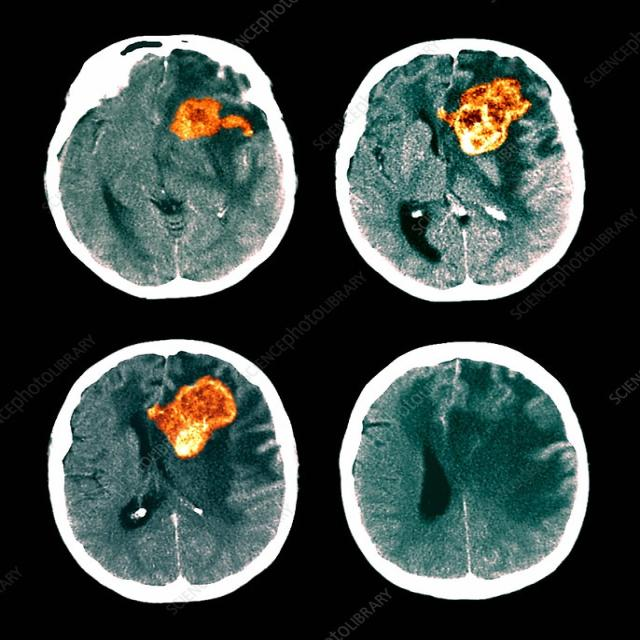Tumor: (439, 70, 528, 152), (148, 374, 235, 454), (168, 94, 254, 142)
